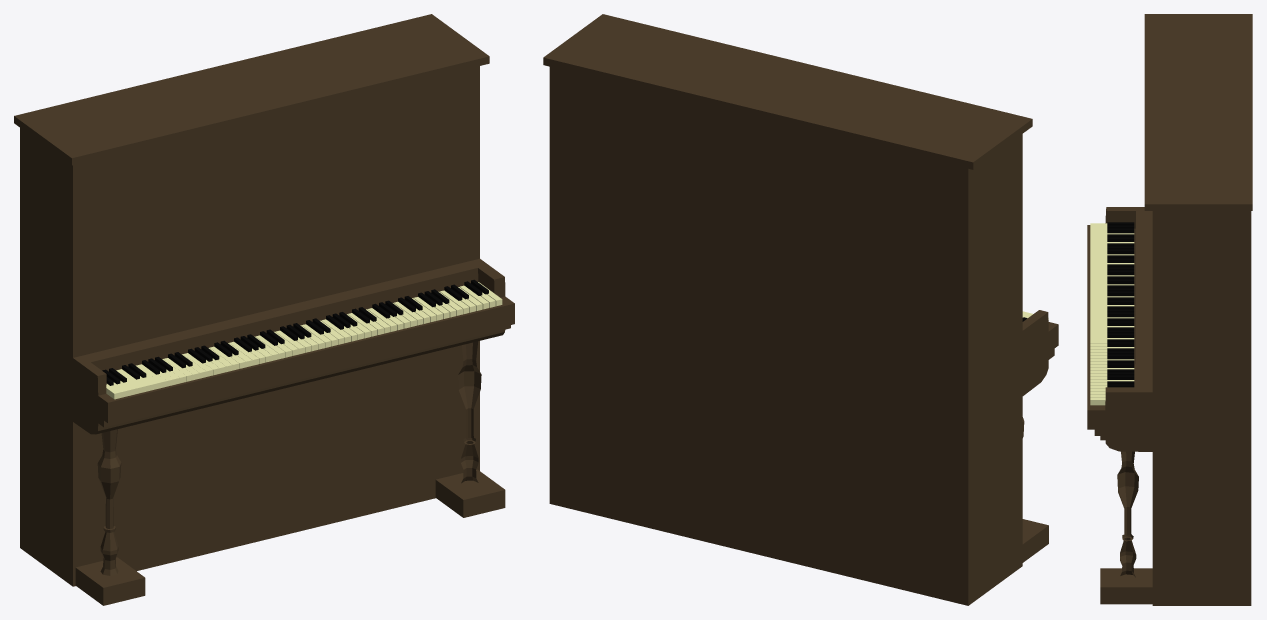
The model's file is Piano_untextured.fbx.
The picture shows the model from 3 angles, left to right: view 1: azimuth 30°, elevation 25°; view 2: azimuth 150°, elevation 25°; view 3: azimuth 270°, elevation 25°; orthographic projection. The views are drawn at different scales.
Visible parts, largest first — view 1: Cube, Cube.001, Circle; view 2: Cube, Cube.001; view 3: Cube, Cube.001, Circle, Cube.061, Cube.062, Cube.063, Cube.064, Cube.065, Cube.067, Cube.066, Cube.068, Cube.073.
Boxes of the visible parts, bbox=[...] form: Cube: bbox=[14, 14, 514, 586]; Cube.001: bbox=[75, 469, 505, 605]; Circle: bbox=[97, 341, 481, 575]; Cube: bbox=[543, 14, 1058, 605]; Cube.001: bbox=[1022, 519, 1048, 562]; Cube: bbox=[1087, 14, 1252, 605]; Cube.001: bbox=[1100, 436, 1152, 604]; Circle: bbox=[1117, 451, 1138, 577]; Cube.061: bbox=[1107, 222, 1134, 233]; Cube.062: bbox=[1107, 243, 1134, 254]; Cube.063: bbox=[1107, 264, 1134, 275]; Cube.064: bbox=[1107, 285, 1134, 296]; Cube.065: bbox=[1107, 306, 1134, 317]; Cube.067: bbox=[1107, 348, 1134, 359]; Cube.066: bbox=[1107, 327, 1134, 337]; Cube.068: bbox=[1107, 369, 1134, 379]; Cube.073: bbox=[1107, 276, 1134, 284].
Size of the model in its own units: 912 by 903 by 334.
